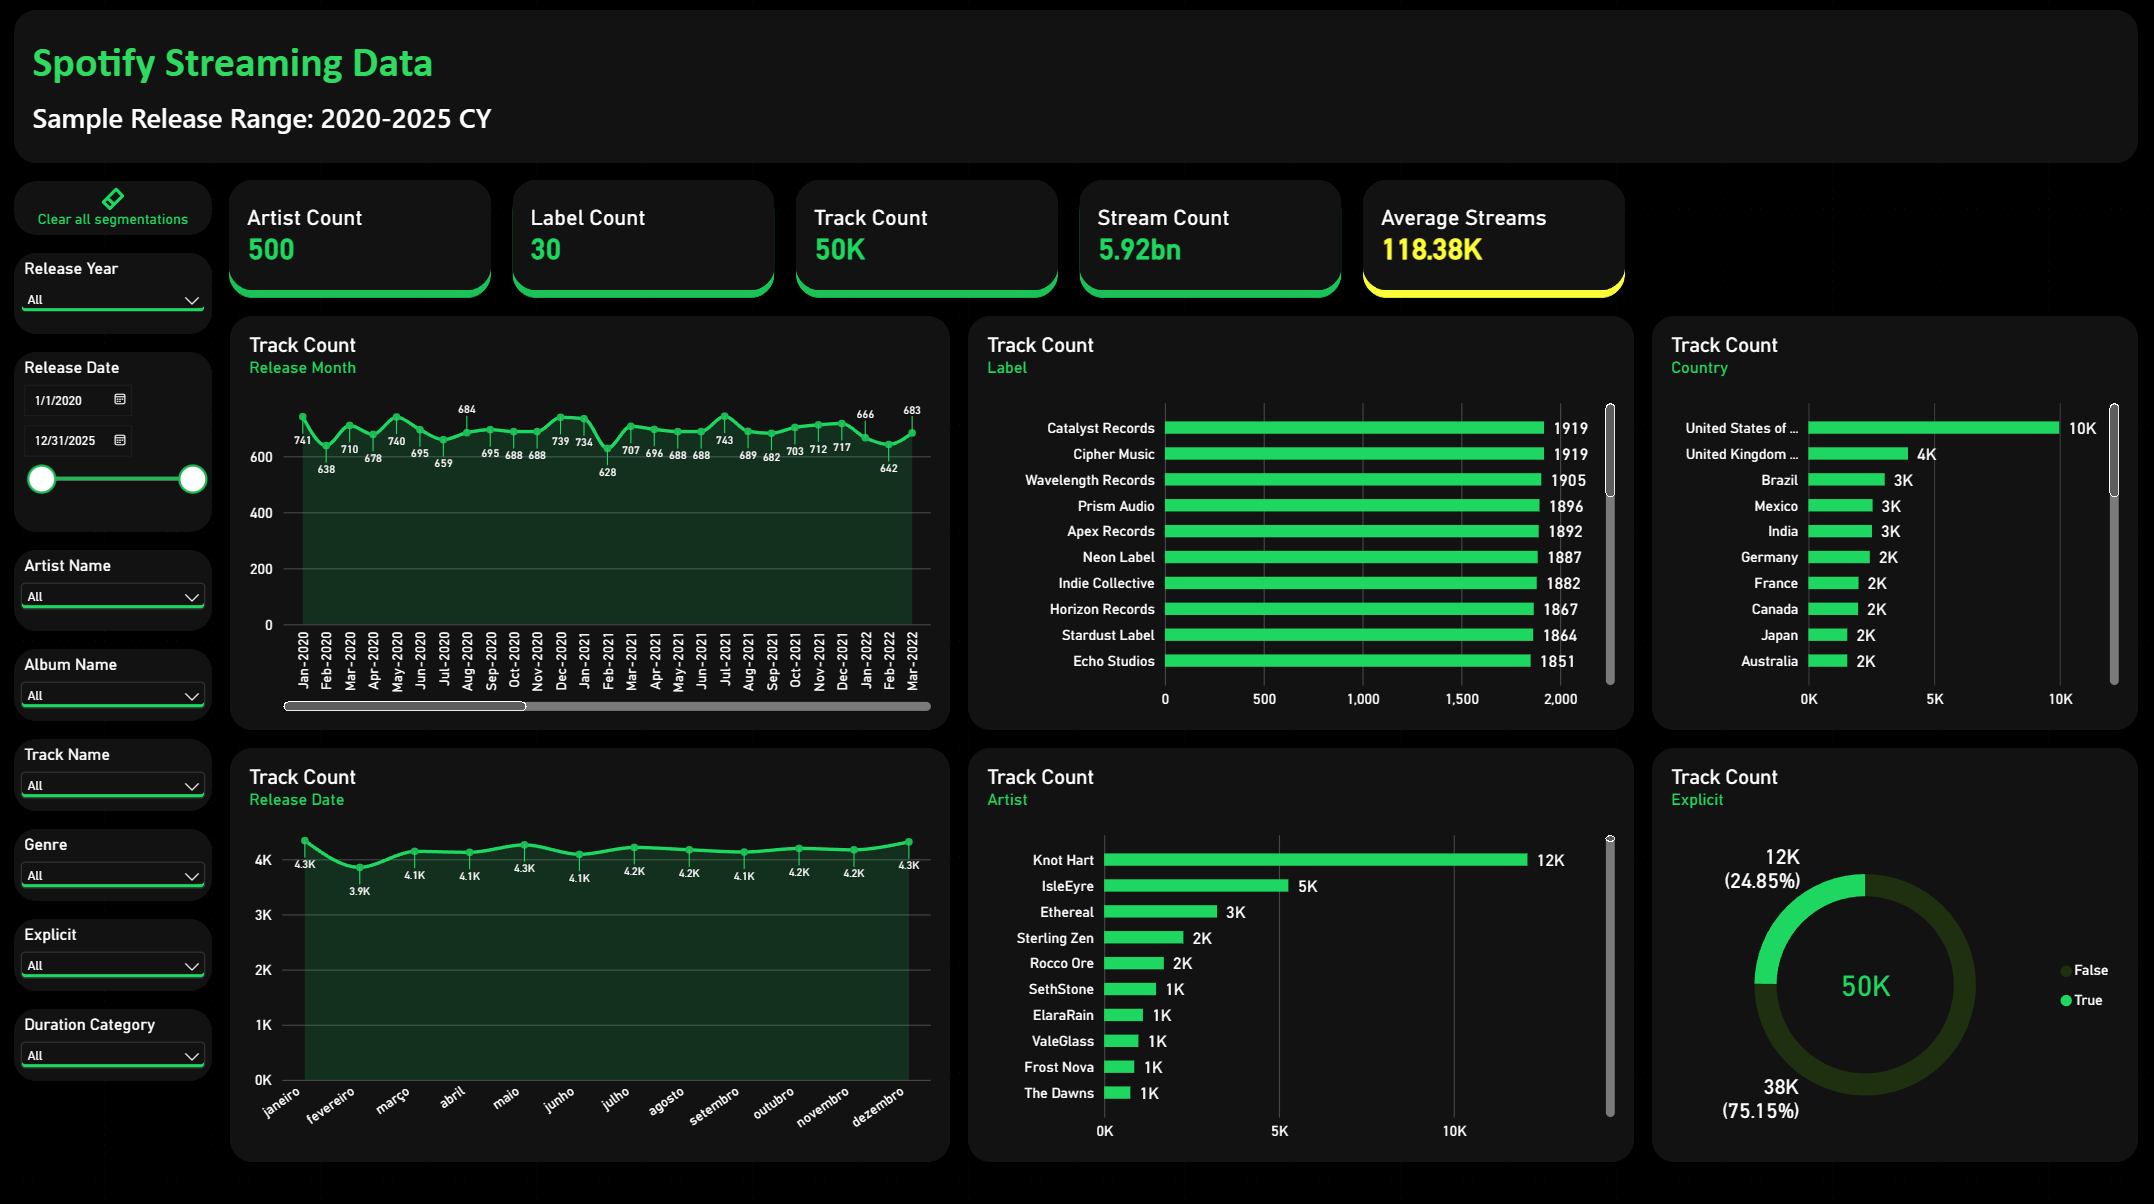

Layout of this report page (visuals, bound fields, positions):
{"tool":"powerbi","page":{"name":"Track Count Summary","canvas":[1920,1080],"ordinal":0},"visuals":[{"type":"cardVisual","fields":{"Data":["Count(Spotify_Data.artist_name)","Count(Spotify_Data.label)","Count(Spotify_Data.track_id)","Sum(Spotify_Data.stream_count)","Avg(Spotify_Data.stream_count)"]},"box":[200,160,1256,112],"z":0},{"type":"textbox","box":[16,16,1872,136],"z":1000},{"type":"lineChart","title":"Track Count","fields":{"Category":["Spotify_Data.release_monthyear"],"Y":["CountNonNull(Spotify_Data.track_id)"]},"box":[208,288,640,368],"z":2000},{"type":"clusteredBarChart","title":"Track Count","fields":{"Category":["Spotify_Data.label"],"Y":["Count(Spotify_Data.track_id)"]},"box":[864,288,592,368],"z":3000},{"type":"barChart","title":"Track Count","fields":{"Category":["Country_Names.Country Name"],"Y":["Count(Spotify_Data.track_id)"]},"box":[1472,288,432,368],"z":4000},{"type":"lineChart","title":"Track Count","fields":{"Category":["Spotify_Data.release_monthyear.Variation.Hierarquia de datas.Ano","Spotify_Data.release_monthyear.Variation.Hierarquia de datas.Trimestre","Spotify_Data.release_monthyear.Variation.Hierarquia de datas.Mês"],"Y":["Count(Spotify_Data.track_id)"]},"box":[208,672,640,368],"z":5000},{"type":"clusteredBarChart","title":"Track Count","fields":{"Category":["Spotify_Data.artist_name"],"Y":["Count(Spotify_Data.track_id)"]},"box":[864,672,592,368],"z":6000},{"type":"donutChart","title":"Track Count","fields":{"Category":["Spotify_Data.is_explicit_bool"],"Y":["Count(Spotify_Data.track_id)"]},"box":[1472,672,432,368],"z":7000},{"type":"slicer","fields":{"Values":["Spotify_Data.release_date"]},"box":[16,320,176,160],"z":8000},{"type":"slicer","fields":{"Values":["Spotify_Data.artist_name"]},"box":[16,496,176,72],"z":9000},{"type":"slicer","fields":{"Values":["Spotify_Data.album_name"]},"box":[16,584,176,64],"z":10000},{"type":"slicer","fields":{"Values":["Spotify_Data.genre"]},"box":[16,744,176,64],"z":11000},{"type":"slicer","fields":{"Values":["Spotify_Data.explicit"]},"box":[16,824,176,64],"z":12000},{"type":"slicer","fields":{"Values":["Spotify_Data.Duration Category"]},"box":[16,904,176,64],"z":13000},{"type":"slicer","fields":{"Values":["Spotify_Data.release_year"]},"box":[16,232,176,72],"z":14000},{"type":"actionButton","box":[16,168,176,48],"z":15000},{"type":"slicer","fields":{"Values":["Spotify_Data.track_name"]},"box":[16,664,176,64],"z":15001}]}

Visuals, with their boxes in screenshot pixels (x1, y1, x2, y2), scaled from the page's 1920x1080 canvas onto the 2154x1204 screenshot:
cardVisual - Count(Spotify_Data.artist_name) x Count(Spotify_Data.label): box(224, 178, 1633, 303)
textbox: box(18, 18, 2118, 169)
"Track Count" lineChart: box(233, 321, 951, 731)
"Track Count" clusteredBarChart: box(969, 321, 1633, 731)
"Track Count" barChart: box(1651, 321, 2136, 731)
"Track Count" lineChart: box(233, 749, 951, 1159)
"Track Count" clusteredBarChart: box(969, 749, 1633, 1159)
"Track Count" donutChart: box(1651, 749, 2136, 1159)
slicer - Spotify_Data.release_date: box(18, 357, 215, 535)
slicer - Spotify_Data.artist_name: box(18, 553, 215, 633)
slicer - Spotify_Data.album_name: box(18, 651, 215, 722)
slicer - Spotify_Data.genre: box(18, 829, 215, 901)
slicer - Spotify_Data.explicit: box(18, 919, 215, 990)
slicer - Spotify_Data.Duration Category: box(18, 1008, 215, 1079)
slicer - Spotify_Data.release_year: box(18, 259, 215, 339)
actionButton: box(18, 187, 215, 241)
slicer - Spotify_Data.track_name: box(18, 740, 215, 812)
